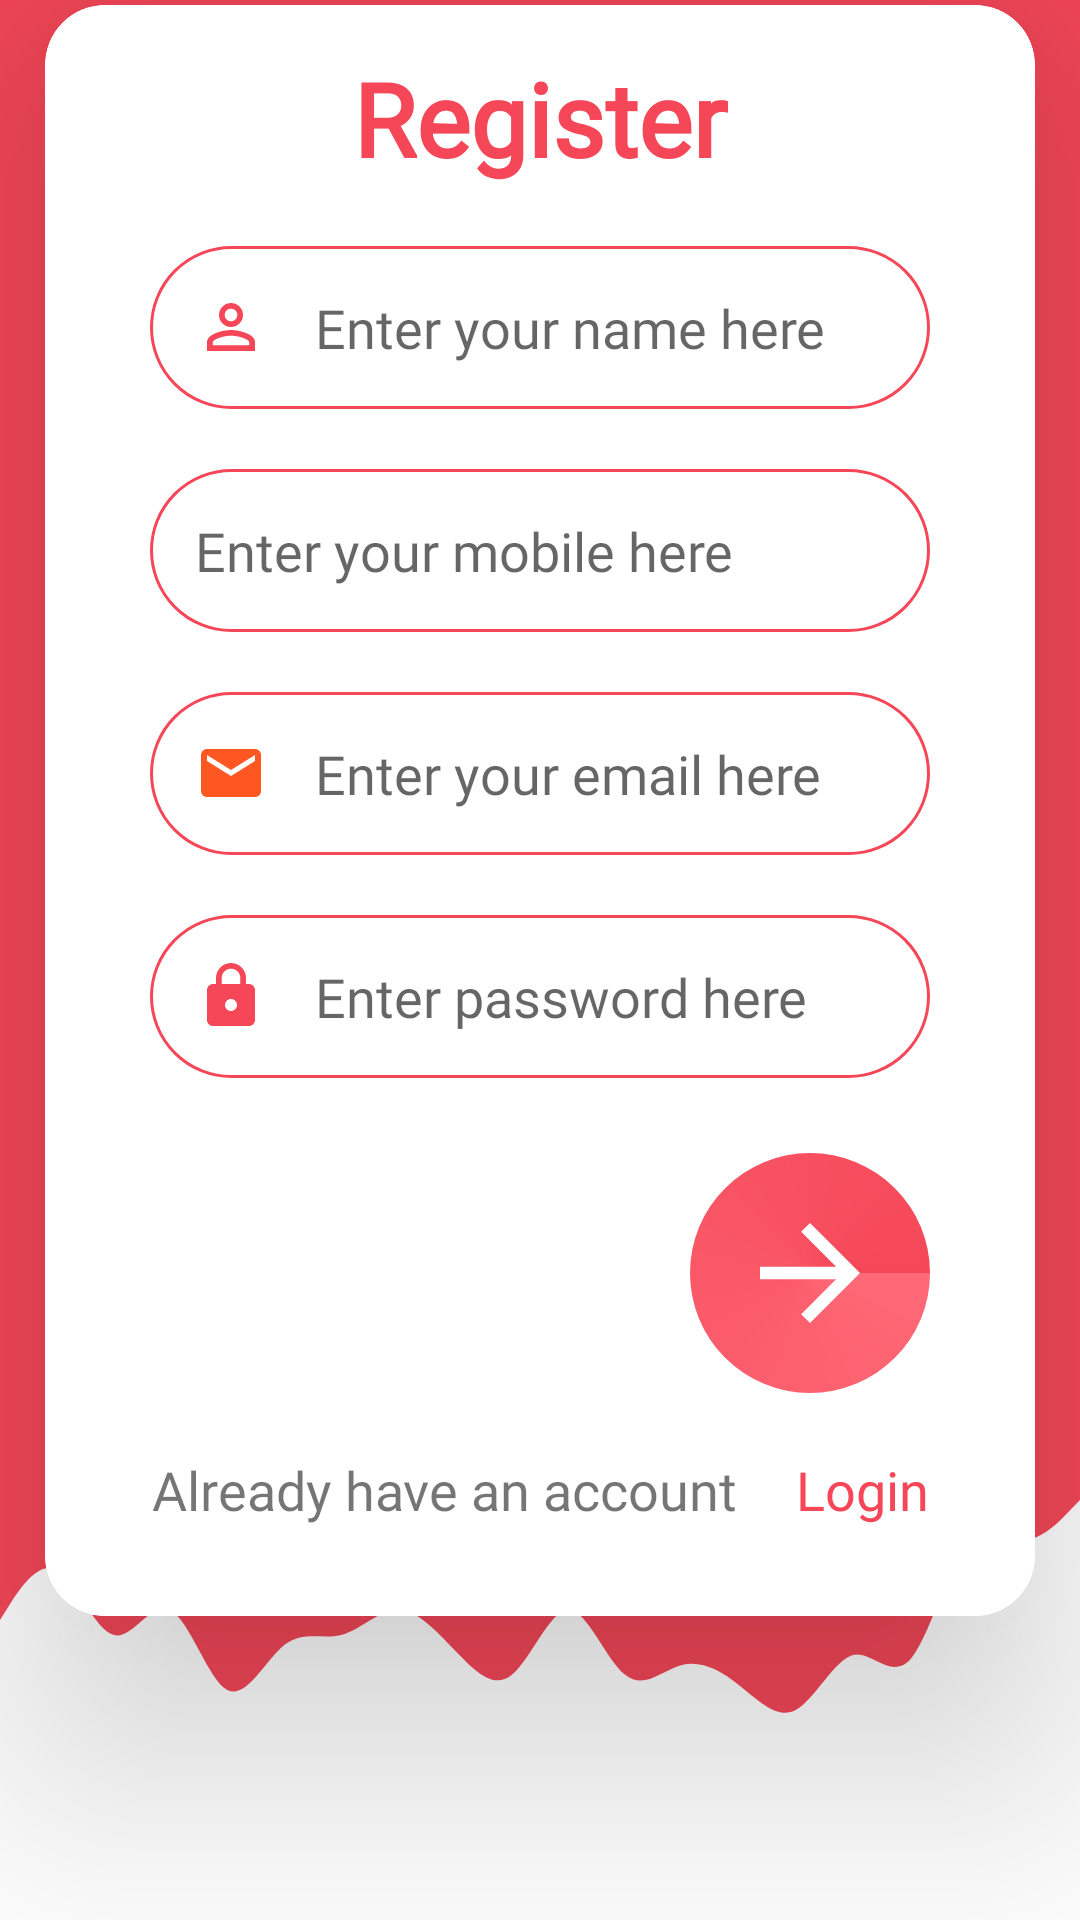

Named icons in this screenshot (1080×1920) and their bounding boxes, {"left": x1, "top": y1, "right": x2, "bottom": y2}:
arrow forward: {"left": 690, "top": 1153, "right": 930, "bottom": 1393}
